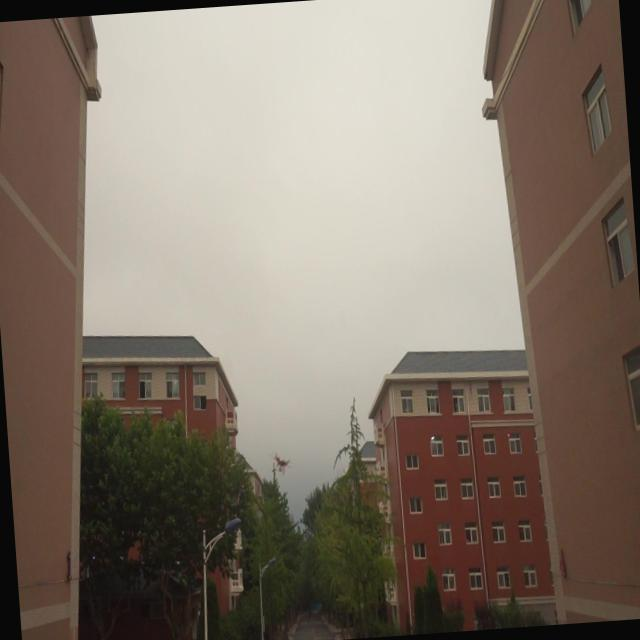drone: (271, 448, 293, 476)
